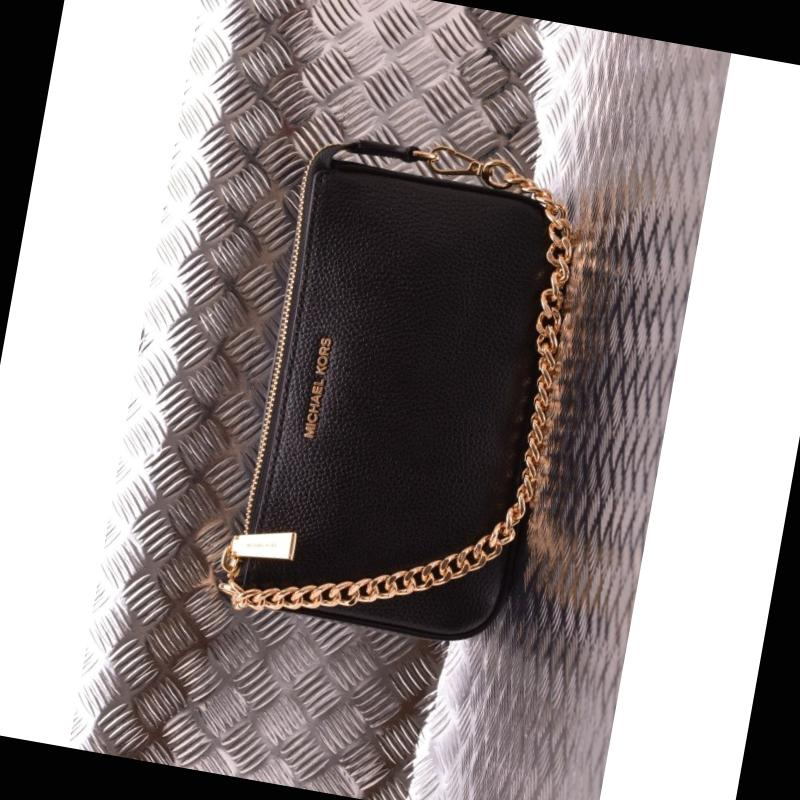MICHAEL-KORS: (303, 336, 332, 438)
